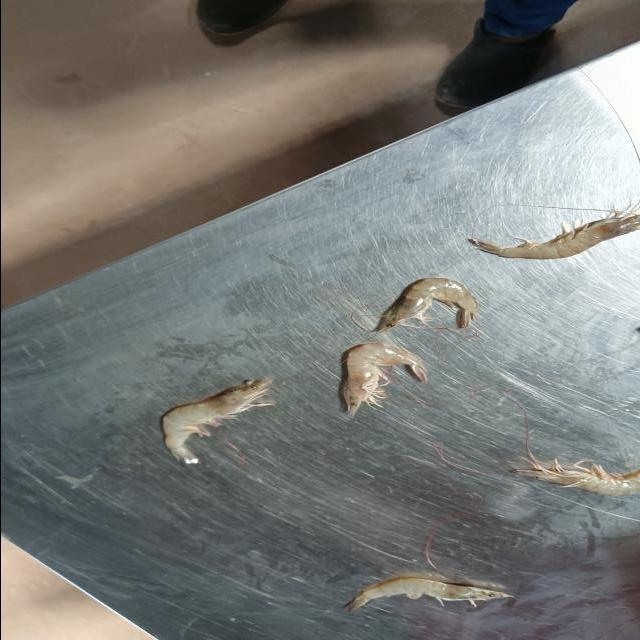shrimp: (162, 378, 273, 464), (467, 209, 640, 259), (341, 342, 425, 415), (374, 278, 476, 332), (346, 578, 512, 611), (512, 459, 640, 496)
